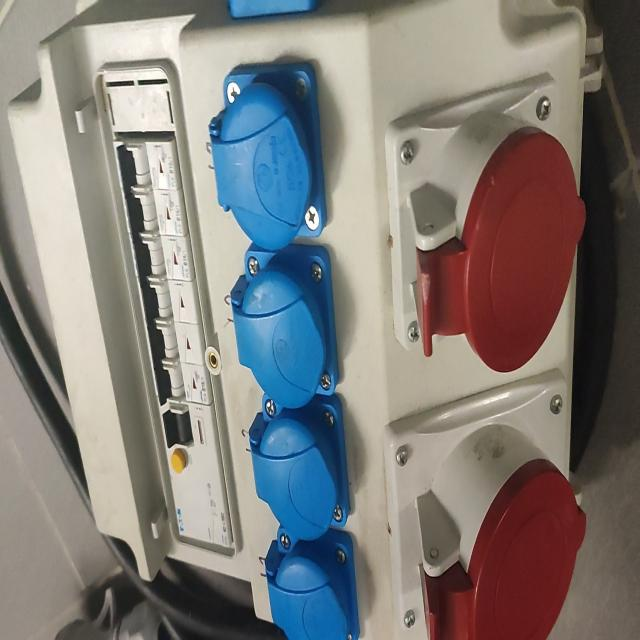400v socket: (385, 68, 587, 370), (384, 367, 589, 640)
house plug covered: (208, 62, 327, 247), (230, 251, 341, 411), (249, 395, 351, 539), (264, 524, 359, 640)
